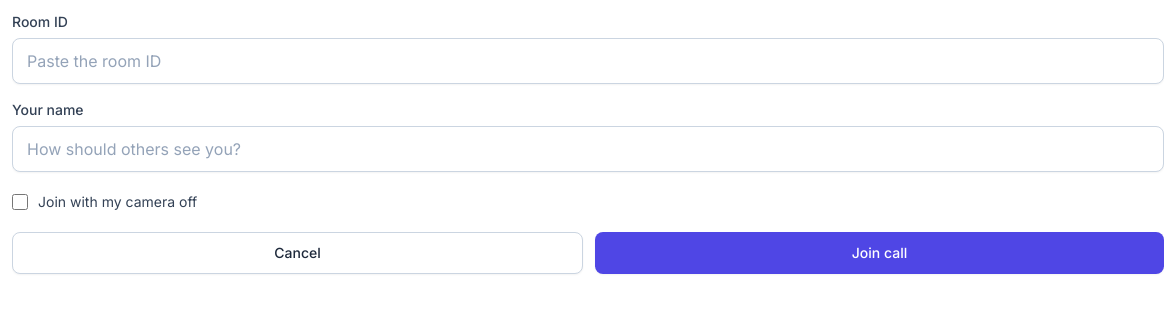
Test case: JoinRoomContent › joining a call (guest) › says so when the room is full
The width and height of the screenshot is (1176, 313).
Type "busy" into the field labelled "Room ID" at (588, 61), box [12,38,1164,84]
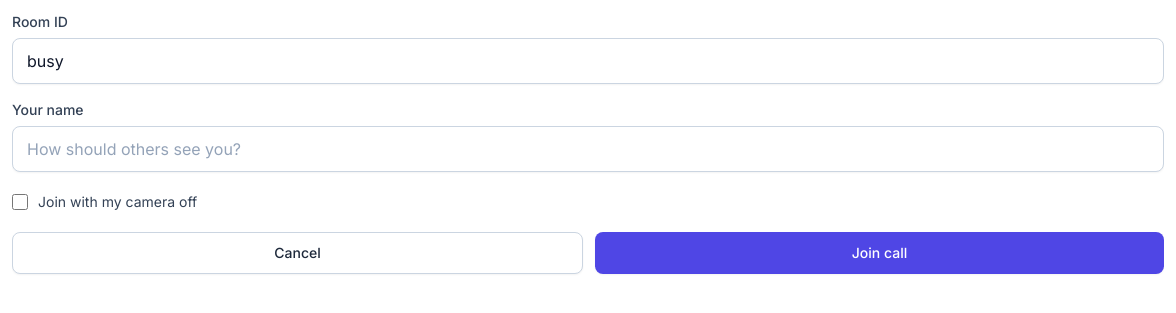
Type "Bob" into the field labelled "Your name" at (588, 149), box [12,126,1164,172]
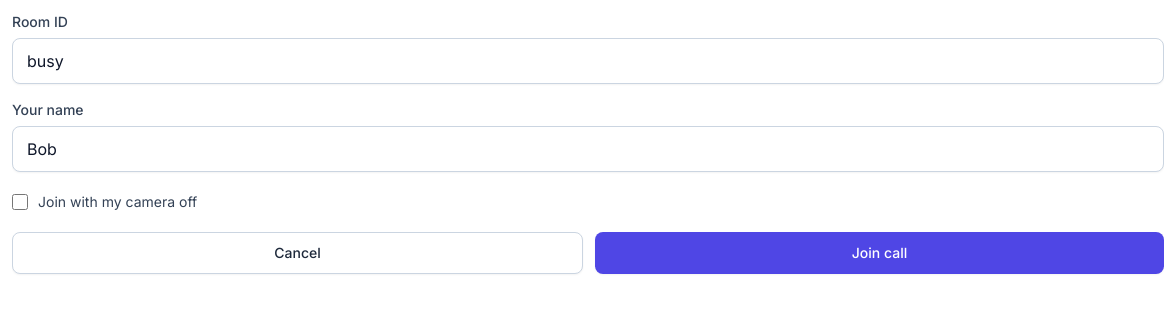
Click the button "Join call" at (880, 253), box [595,232,1164,274]
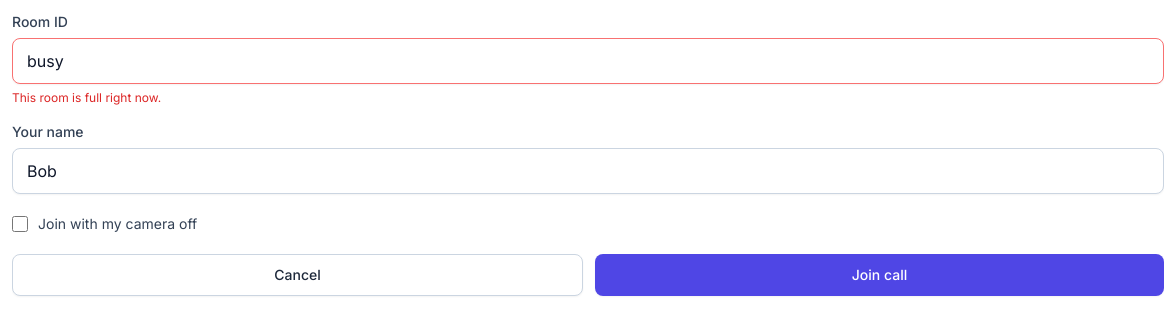
Result: the text "This room is full right now." is shown at [12,90,161,105]
